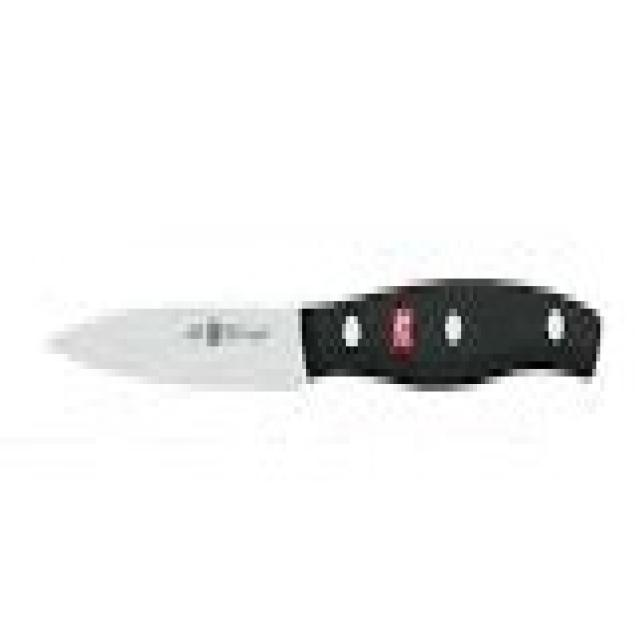knife: (34, 273, 612, 419)
